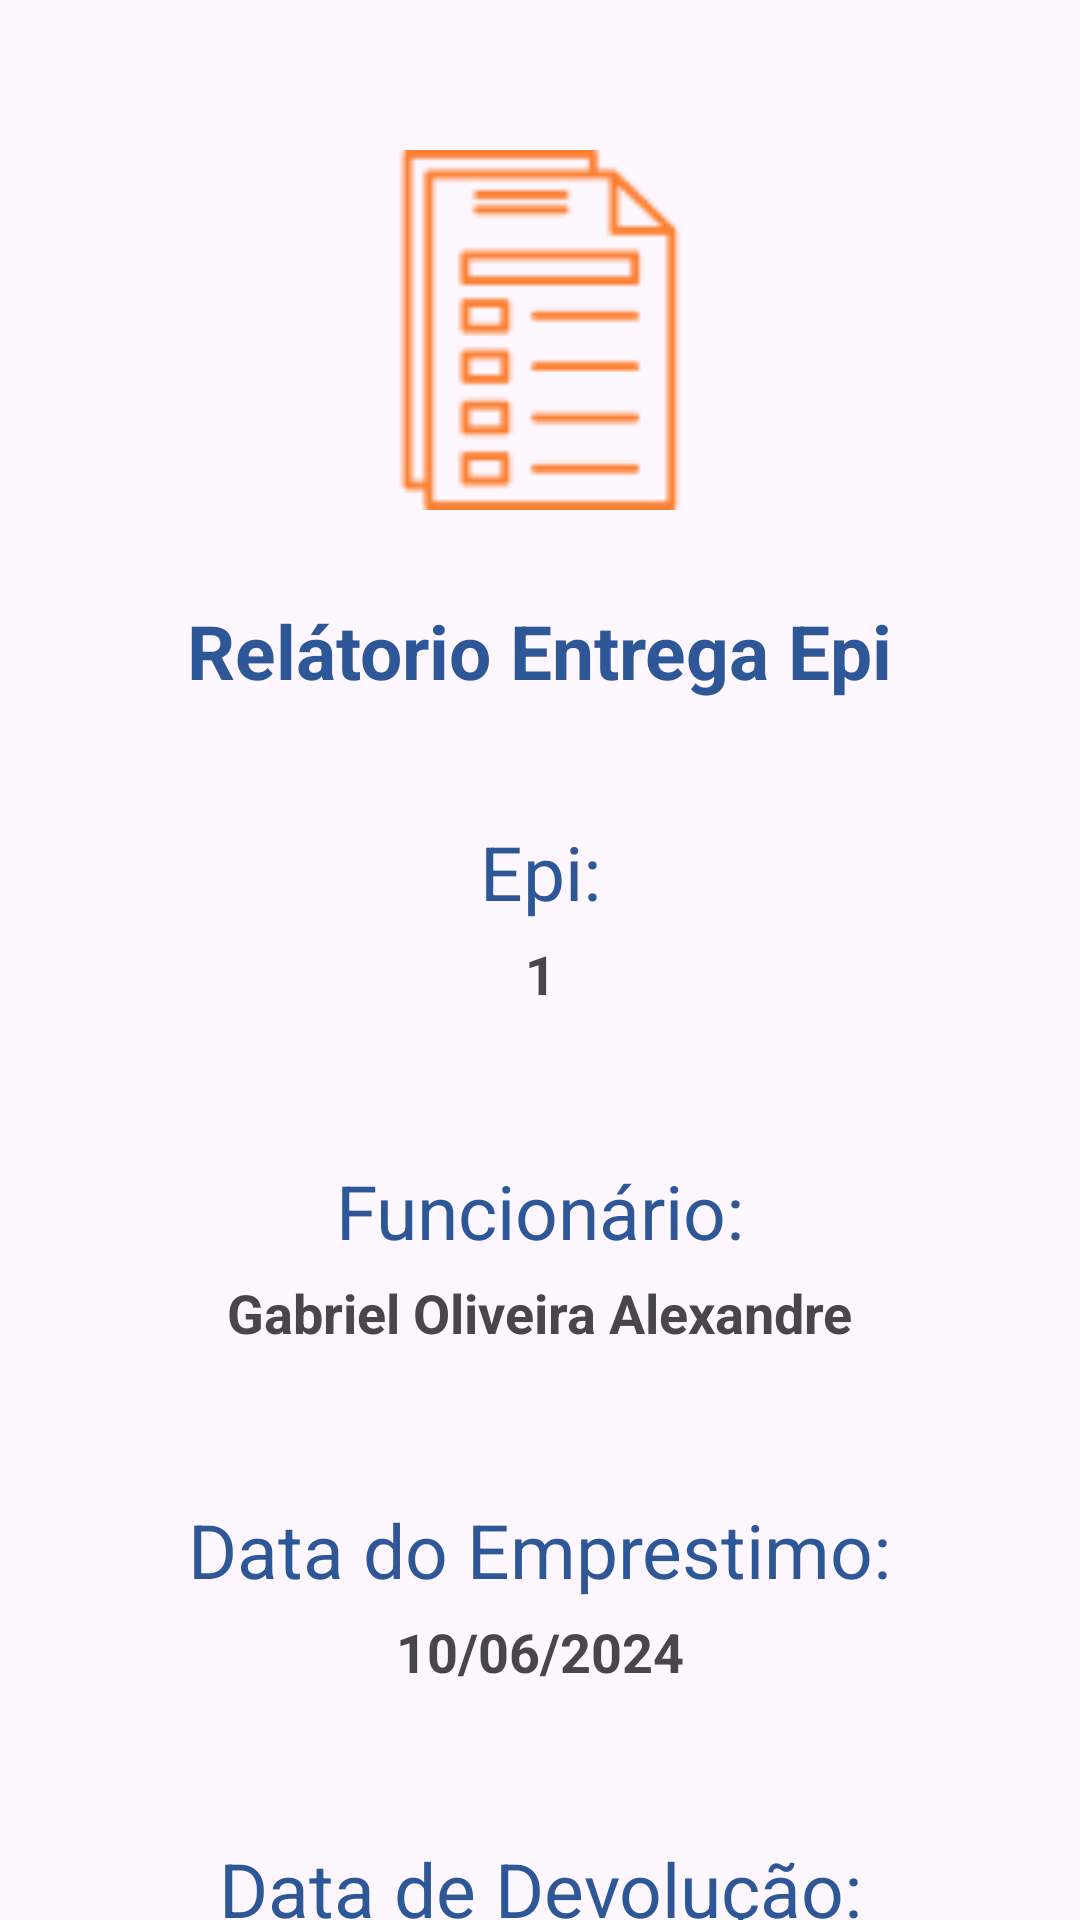

Screen size 1080*1920. Icon name, then its center in pixels as point (x, y):
cadastroentrega: point (540, 330)
